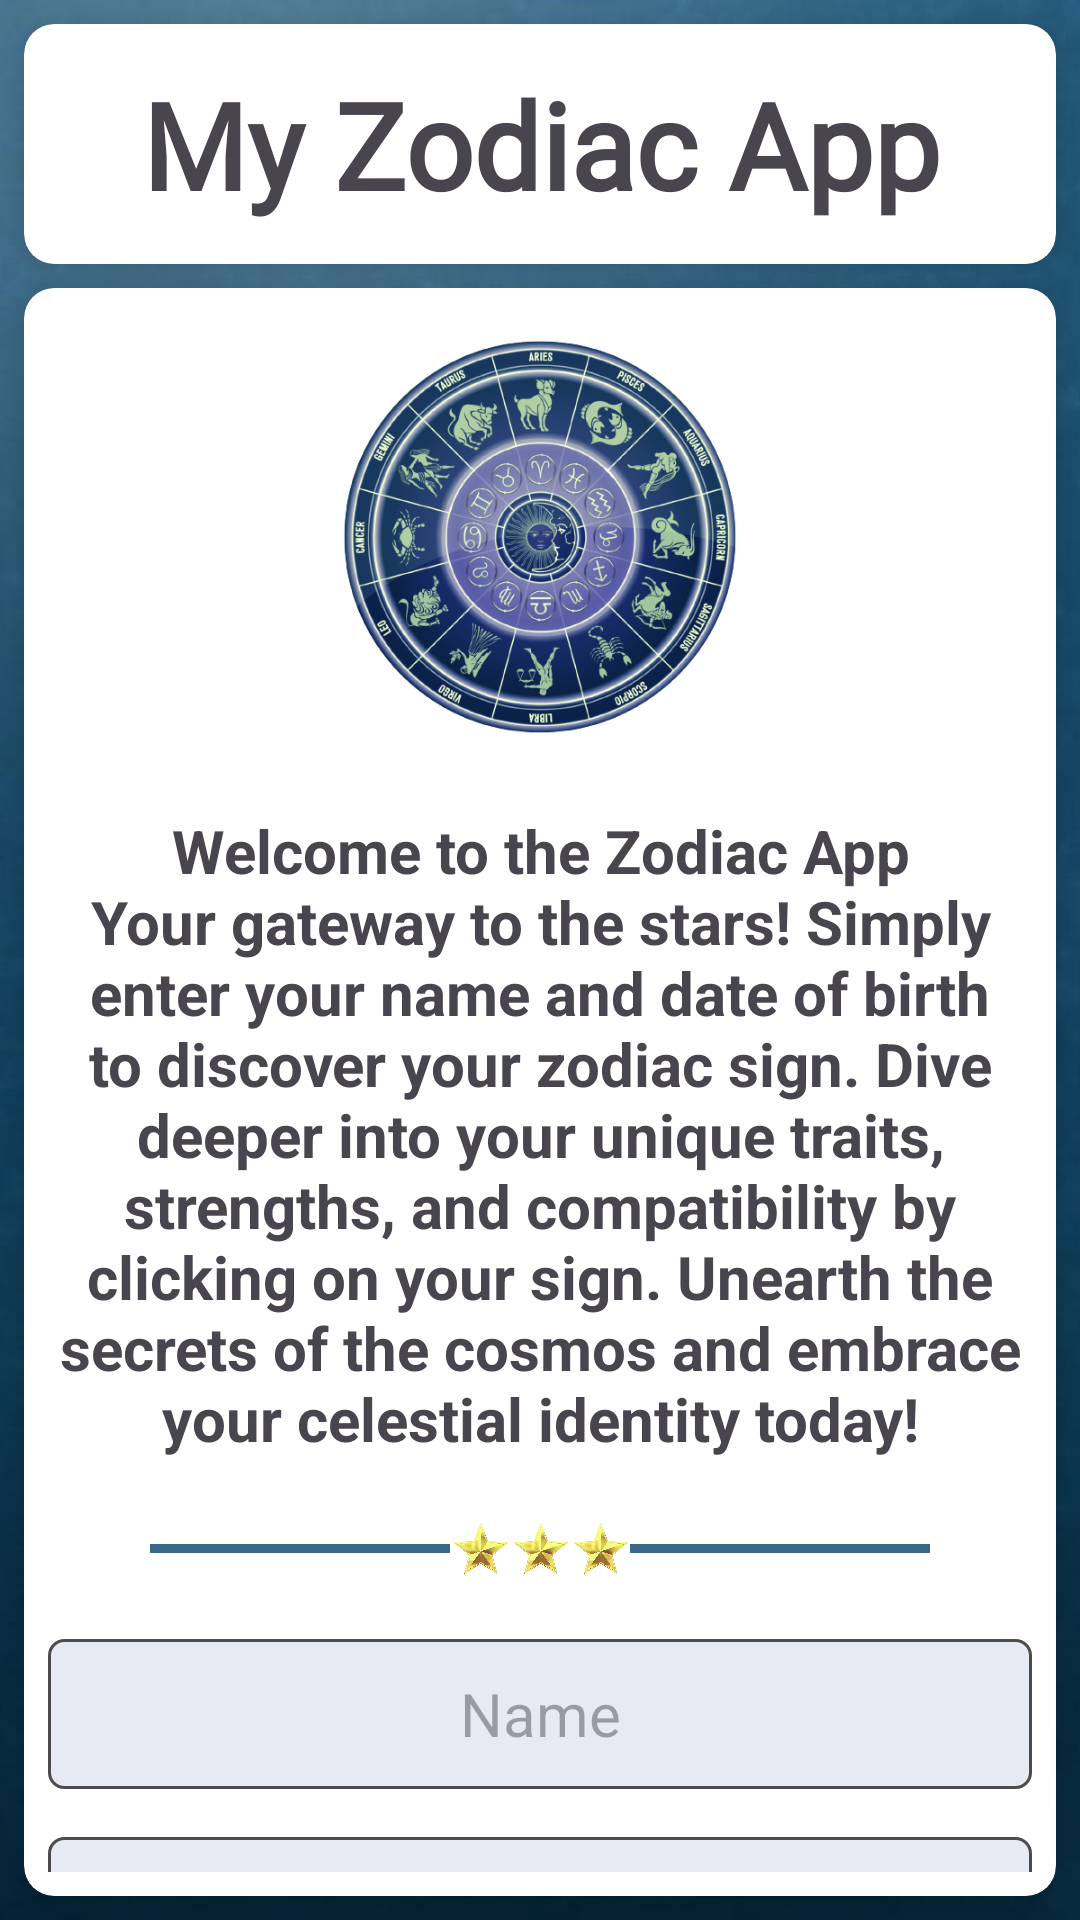

Where to tap for icons on this 1080*1920 app screen, as point (x, y):
Star Image: point (481, 1548), point (541, 1548), point (601, 1548)
